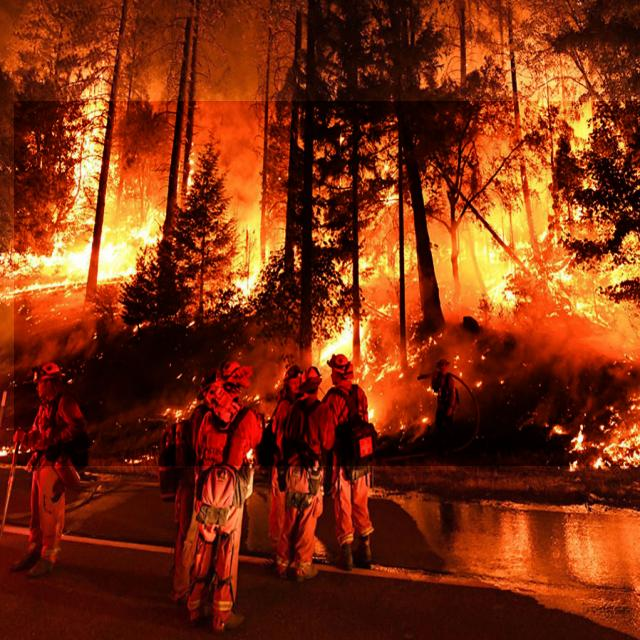Fire: (14, 101, 640, 466)
